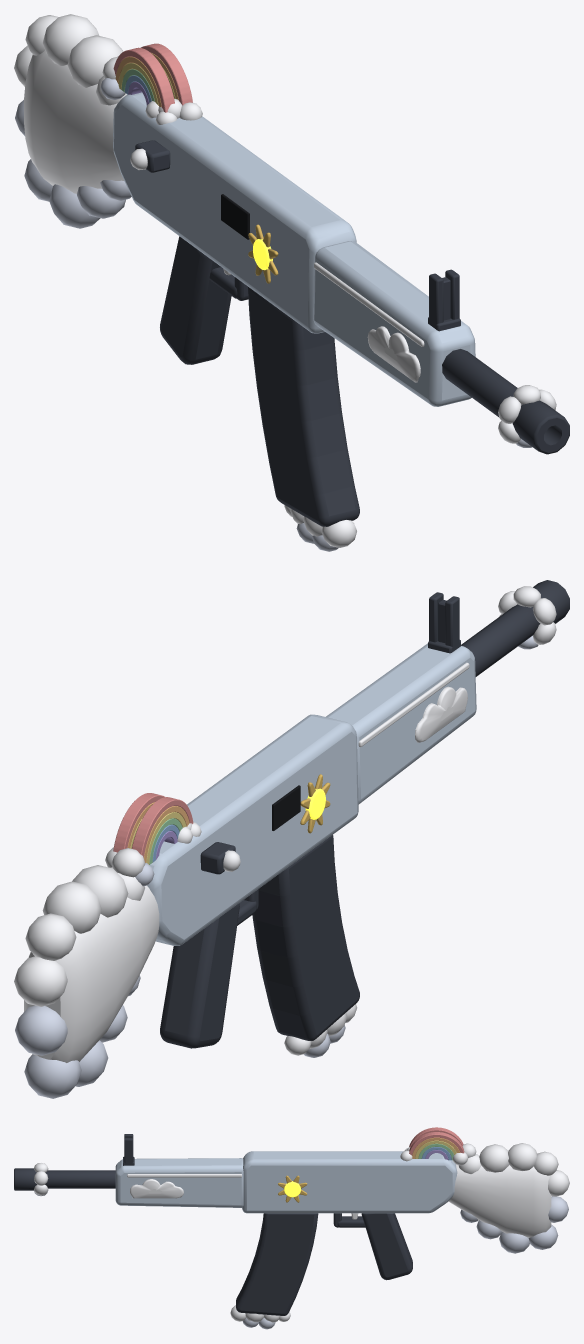
File: w_ar@ar_cute_e.glb
3 views of the same model, one above another, from view 1: azimuth 30°, elevation 25°; view 2: azimuth 150°, elevation 25°; view 3: azimuth 270°, elevation 25° (orthographic). The views are drawn at different scales.
Parts seen in each view (by area): view 1: body_wzA__sky__pc3d1e2, mag_wzB__dark__p3a3f4a, stock_wzA__cloud__pf1f2f6, guard_wzA__sky__pc3d1e2, grip_wzB__dark__p3a3f4a, barrel_wzB__dark__p3a3f4a, stock_wzA__shade__pcbd2e2, guard_wzN__cloud__pf1f2f6, sight_wzN__b0__pd98f8f, sight_wzN__dark__p3a3f4a, barrel_wzN__cloud__pf1f2f6, sight_wzN__cloud__pf1f2f6 (+3 smaller); view 2: body_wzA__sky__pc3d1e2, stock_wzA__cloud__pf1f2f6, mag_wzB__dark__p3a3f4a, guard_wzA__sky__pc3d1e2, grip_wzB__dark__p3a3f4a, stock_wzA__shade__pcbd2e2, barrel_wzB__dark__p3a3f4a, guard_wzN__cloud__pf1f2f6, sight_wzN__b0__pd98f8f, sight_wzN__dark__p3a3f4a, barrel_wzN__cloud__pf1f2f6, sight_wzN__cloud__pf1f2f6 (+3 smaller); view 3: body_wzA__sky__pc3d1e2, stock_wzA__cloud__pf1f2f6, mag_wzB__dark__p3a3f4a, guard_wzA__sky__pc3d1e2, grip_wzB__dark__p3a3f4a, stock_wzA__shade__pcbd2e2, barrel_wzB__dark__p3a3f4a, guard_wzN__cloud__pf1f2f6, sight_wzN__b0__pd98f8f, mag_wzN__cloud__pf1f2f6, sight_wzN__cloud__pf1f2f6, barrel_wzN__cloud__pf1f2f6 (+2 smaller).
Boxes of the visible parts, left/top/right/bottom form: body_wzA__sky__pc3d1e2: left=113, top=92, right=356, bottom=333; mag_wzB__dark__p3a3f4a: left=248, top=287, right=359, bottom=526; stock_wzA__cloud__pf1f2f6: left=14, top=14, right=127, bottom=193; guard_wzA__sky__pc3d1e2: left=313, top=241, right=475, bottom=406; grip_wzB__dark__p3a3f4a: left=160, top=236, right=248, bottom=364; barrel_wzB__dark__p3a3f4a: left=442, top=349, right=569, bottom=454; stock_wzA__shade__pcbd2e2: left=15, top=100, right=131, bottom=228; guard_wzN__cloud__pf1f2f6: left=314, top=262, right=424, bottom=382; sight_wzN__b0__pd98f8f: left=113, top=43, right=192, bottom=112; sight_wzN__dark__p3a3f4a: left=428, top=269, right=460, bottom=331; barrel_wzN__cloud__pf1f2f6: left=498, top=385, right=556, bottom=443; sight_wzN__cloud__pf1f2f6: left=102, top=56, right=202, bottom=124; body_wzA__sky__pc3d1e2: left=147, top=714, right=358, bottom=945; stock_wzA__cloud__pf1f2f6: left=14, top=865, right=159, bottom=1062; mag_wzB__dark__p3a3f4a: left=252, top=835, right=359, bottom=1040; guard_wzA__sky__pc3d1e2: left=326, top=643, right=476, bottom=804; grip_wzB__dark__p3a3f4a: left=160, top=889, right=258, bottom=1048; stock_wzA__shade__pcbd2e2: left=15, top=975, right=140, bottom=1098; barrel_wzB__dark__p3a3f4a: left=461, top=580, right=569, bottom=676; guard_wzN__cloud__pf1f2f6: left=358, top=662, right=469, bottom=747; sight_wzN__b0__pd98f8f: left=113, top=793, right=193, bottom=858; sight_wzN__dark__p3a3f4a: left=428, top=592, right=460, bottom=653; barrel_wzN__cloud__pf1f2f6: left=498, top=586, right=556, bottom=644; sight_wzN__cloud__pf1f2f6: left=105, top=822, right=201, bottom=877; body_wzA__sky__pc3d1e2: left=242, top=1151, right=457, bottom=1213; stock_wzA__cloud__pf1f2f6: left=448, top=1143, right=569, bottom=1237; mag_wzB__dark__p3a3f4a: left=236, top=1213, right=318, bottom=1315; guard_wzA__sky__pc3d1e2: left=115, top=1158, right=243, bottom=1207; grip_wzB__dark__p3a3f4a: left=333, top=1213, right=412, bottom=1280; stock_wzA__shade__pcbd2e2: left=460, top=1196, right=568, bottom=1253; barrel_wzB__dark__p3a3f4a: left=14, top=1168, right=115, bottom=1190; guard_wzN__cloud__pf1f2f6: left=127, top=1174, right=241, bottom=1198; sight_wzN__b0__pd98f8f: left=409, top=1127, right=464, bottom=1155; mag_wzN__cloud__pf1f2f6: left=230, top=1305, right=290, bottom=1322; sight_wzN__cloud__pf1f2f6: left=400, top=1143, right=476, bottom=1165; barrel_wzN__cloud__pf1f2f6: left=34, top=1163, right=48, bottom=1195.
Size of the model in its own units: 0.113 by 0.483 by 1.23.
